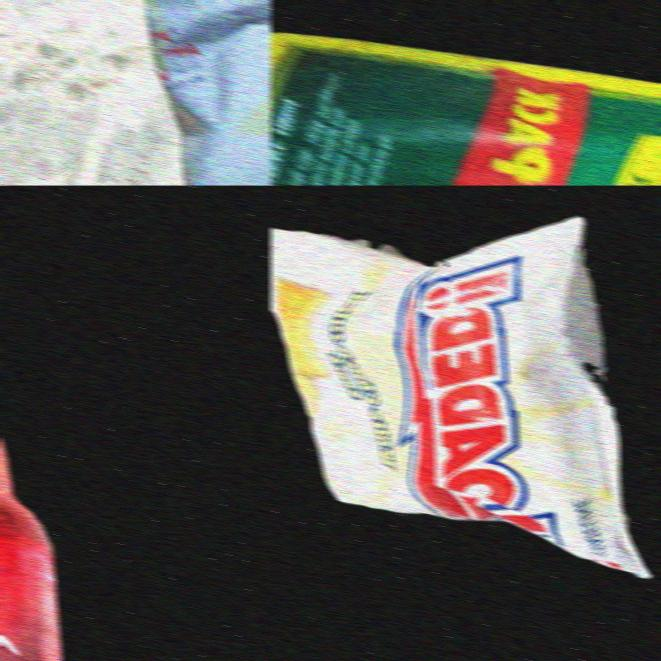Datu puti Suka: (270, 32, 661, 185)
loaded: (270, 216, 652, 578), (0, 0, 272, 185)
